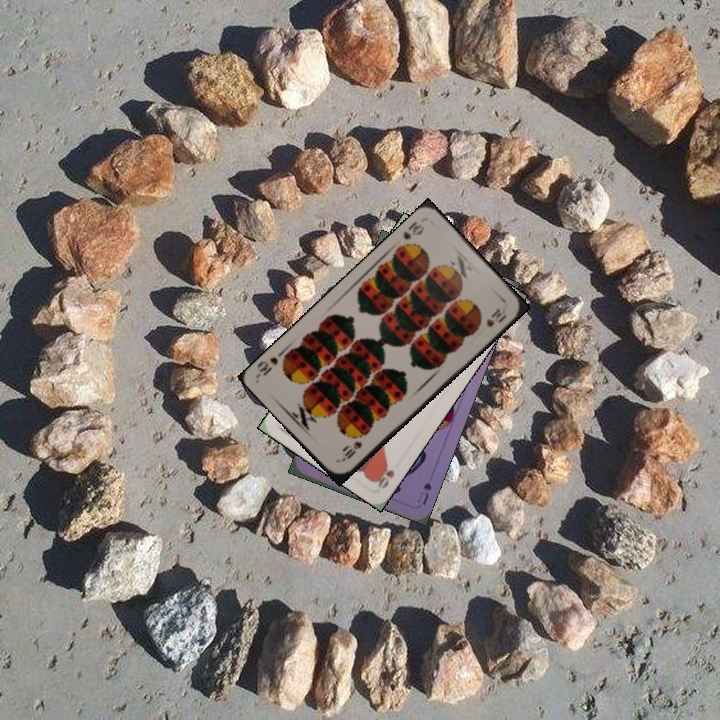HO: (372, 461, 397, 492)
S10: (337, 437, 365, 464), (399, 217, 427, 243)
SU: (413, 478, 434, 508)
